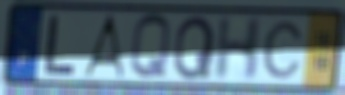A: (79, 13, 126, 80)
C: (261, 20, 306, 81)
H: (212, 15, 265, 83)
L: (41, 13, 78, 78)
Q: (128, 11, 173, 83), (171, 14, 217, 83)
